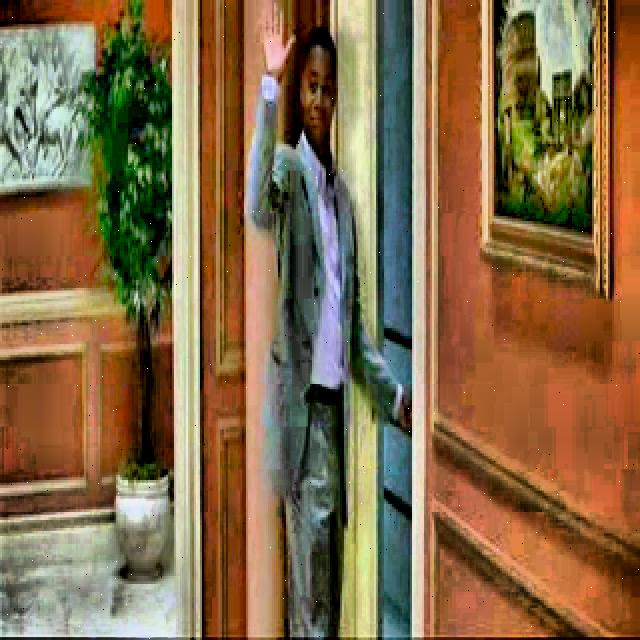T: (234, 4, 415, 634)
